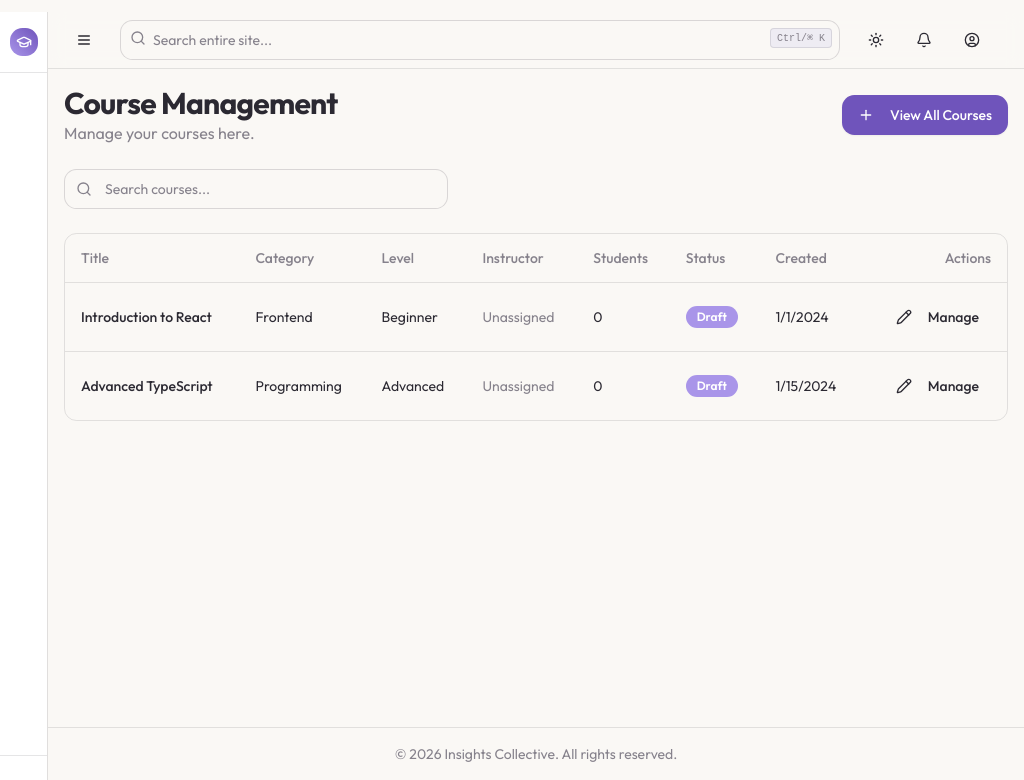
Test: CourseManagementDashboard › should filter courses by search query
This screenshot has width=1024, height=780.
In the field with placeholder "Search courses...": (256, 189) [64,169,448,209], type "typescript"
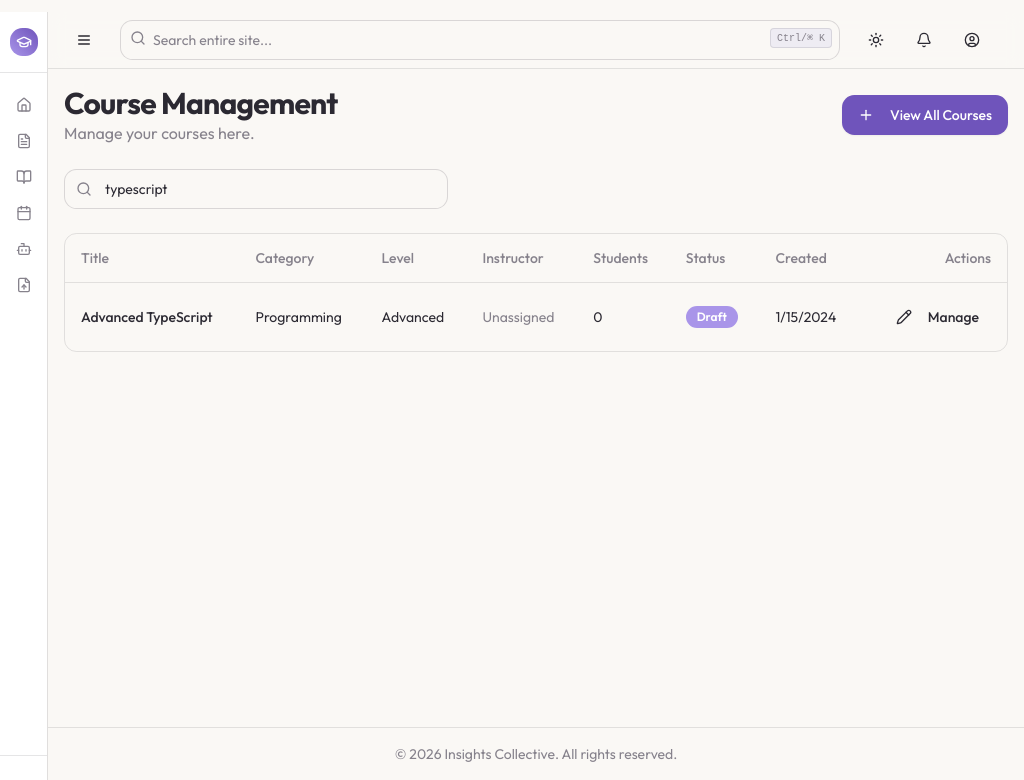
Check: the text "Advanced TypeScript" is shown, box [65,282,239,350]
Check: the text "Introduction to React" is gone
